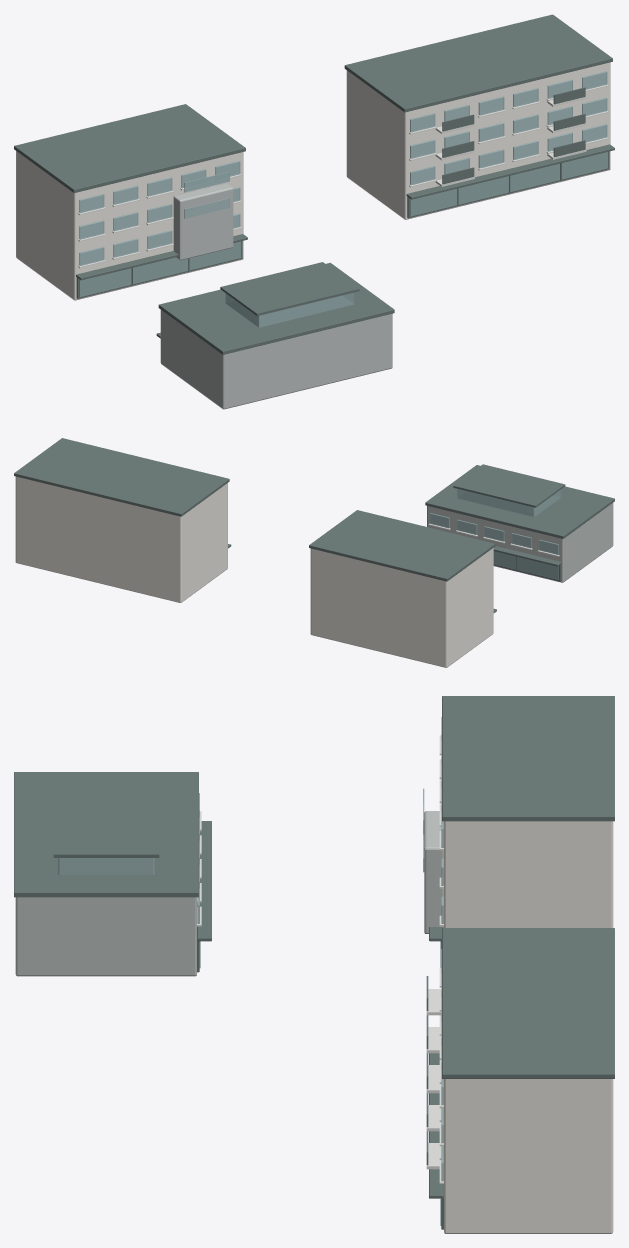
Rendered from xingfuli-center-identity-v2.glb.
3 views of the same model, one above another, from view 1: azimuth 30°, elevation 25°; view 2: azimuth 150°, elevation 25°; view 3: azimuth 270°, elevation 25° (orthographic). The views are drawn at different scales.
Parts seen in each view (by area): view 1: xingfuli-center-identity-v2; view 2: xingfuli-center-identity-v2; view 3: xingfuli-center-identity-v2.
Part boxes in pixels (x1=…): xingfuli-center-identity-v2: x1=14, y1=14, x2=614, y2=409; xingfuli-center-identity-v2: x1=14, y1=438, x2=614, y2=667; xingfuli-center-identity-v2: x1=14, y1=696, x2=614, y2=1233.
Size of the model in its own units: 44.43 by 8.84 by 29.83.
